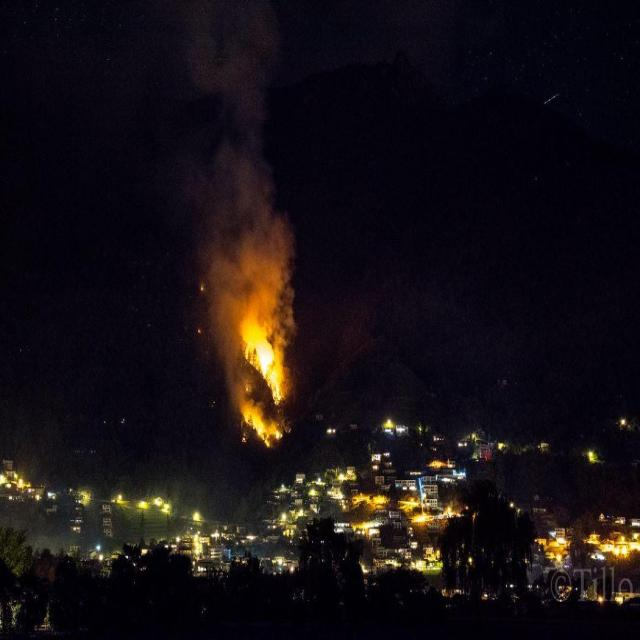Fire: (244, 313, 287, 406), (238, 412, 284, 446)
